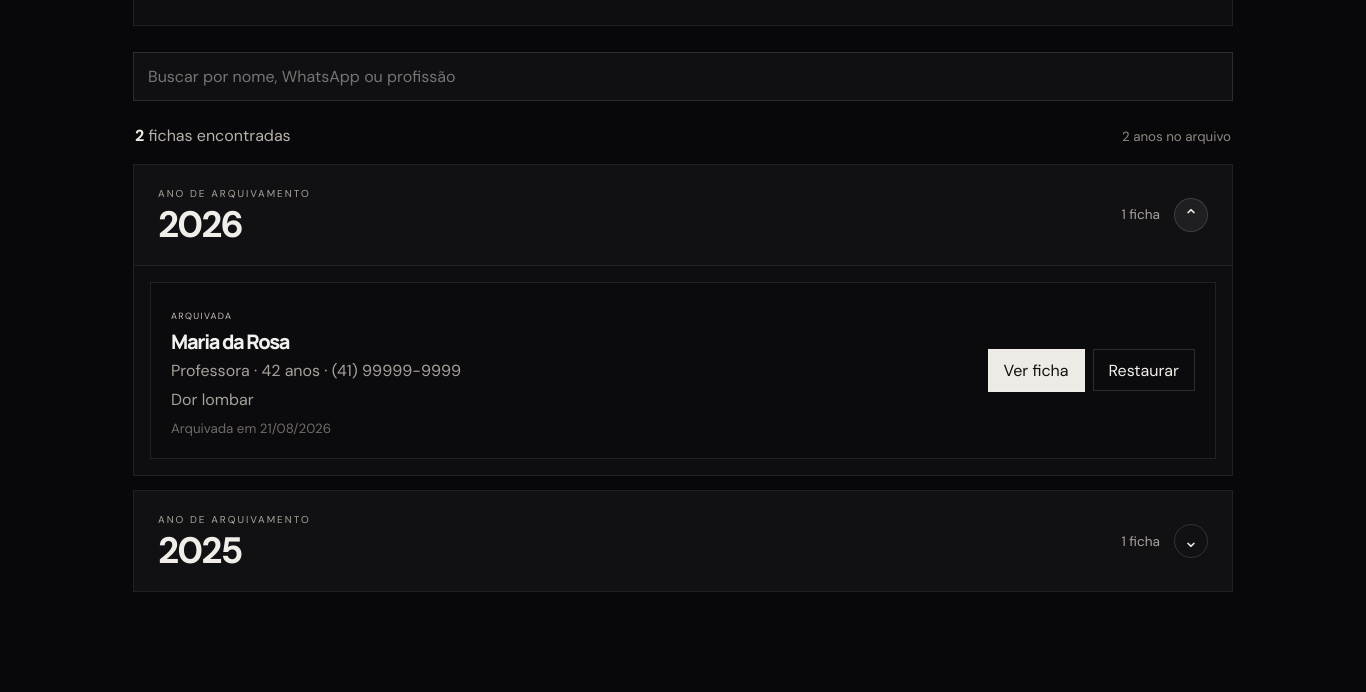
AdminArchivePage › restaura uma ficha após confirmação
(page scrolled)
Check: the heading "Maria da Rosa" is shown, box [171,328,289,354]
Click the button "Restaurar": (1144, 370) [1092,349,1195,391]
(page scrolled)
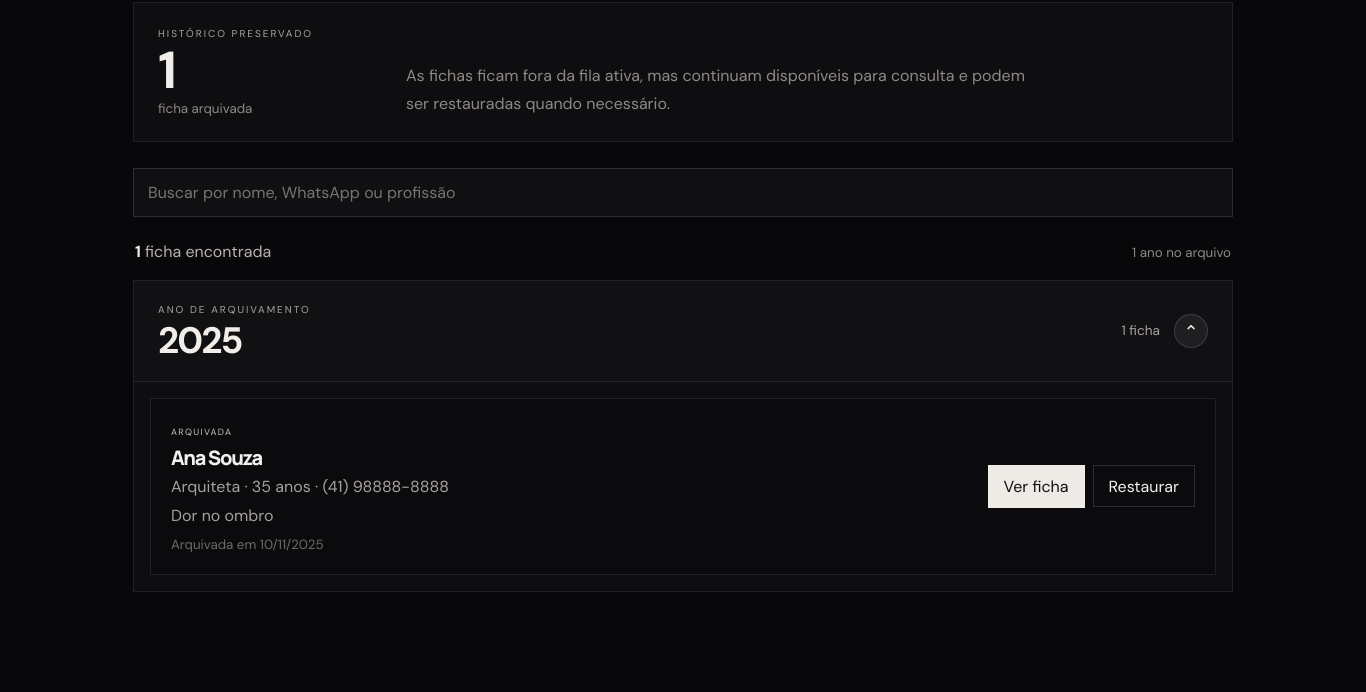
Check: the heading "Maria da Rosa" is gone
Check: the heading "Ana Souza" is shown, box [171,444,262,470]
